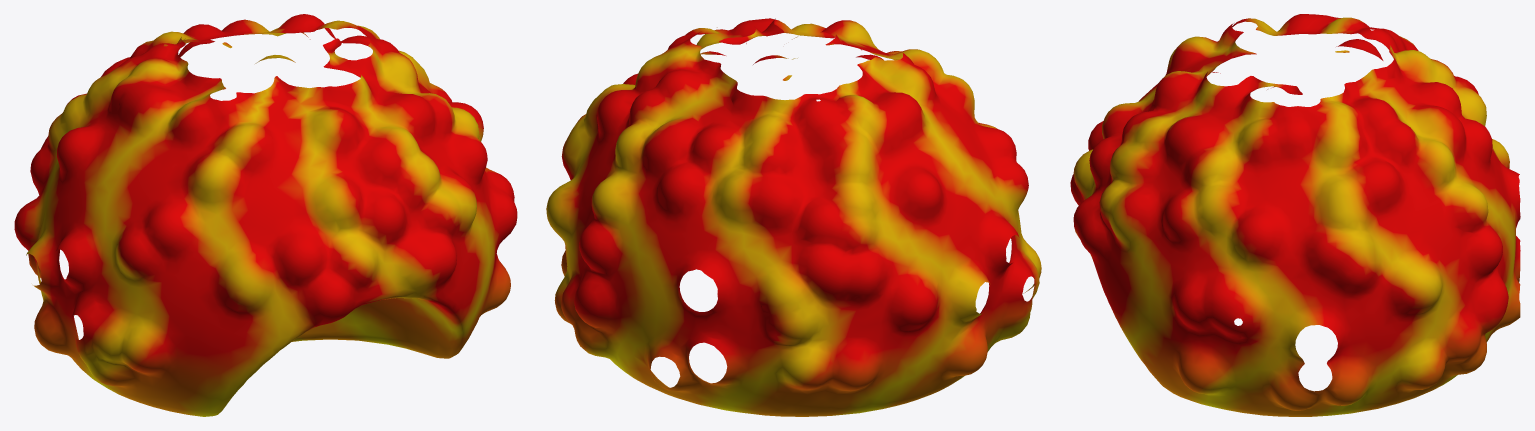
The model's file is afro.glb.
The picture shows the model from 3 angles, left to right: view 1: azimuth 30°, elevation 25°; view 2: azimuth 150°, elevation 25°; view 3: azimuth 270°, elevation 25°; orthographic projection. The views are drawn at different scales.
Visible parts, largest first — view 1: part; view 2: part; view 3: part.
Part boxes in pixels (box(x1,y1,x2,y2)): part: box(14, 14, 517, 416); part: box(546, 18, 1041, 416); part: box(1070, 14, 1520, 416).
Bounding box in the file's own units: 2.99 × 1.94 × 2.8.
